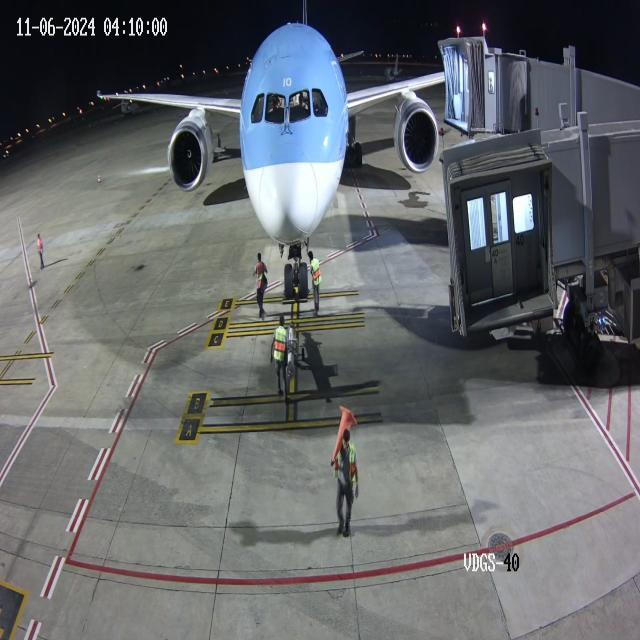bridge: (468, 29, 533, 144)
plane: (89, 0, 432, 306)
window: (248, 82, 334, 141)
